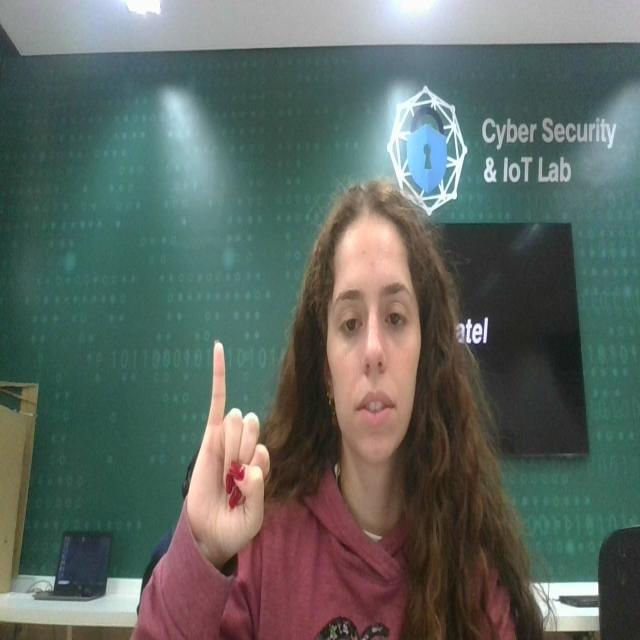I: (186, 331, 274, 567)
